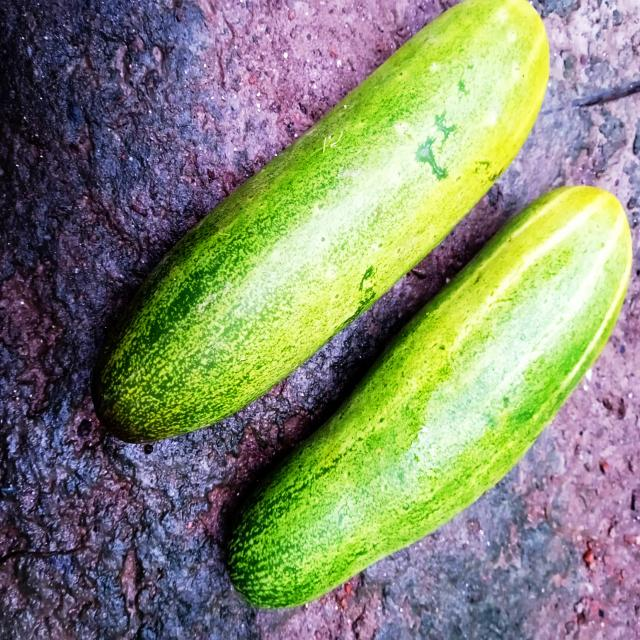Fresh-Cucumber: (87, 0, 636, 614)
